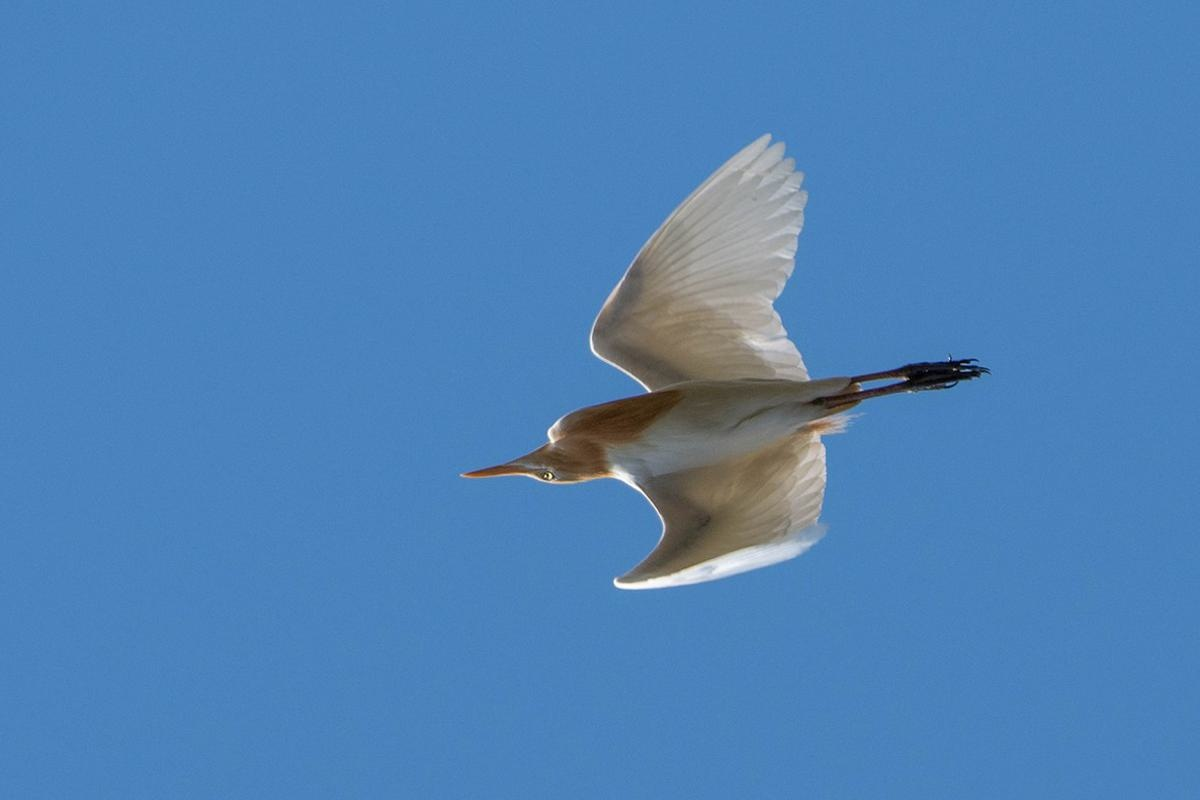egret: (456, 121, 1046, 673)
